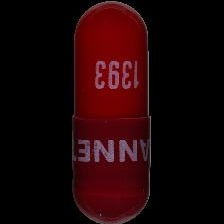68084-357: (0, 0, 224, 224)
